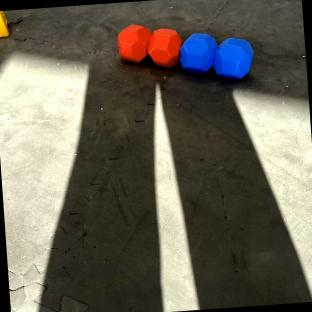V5_BLUE: (180, 33, 252, 78)
V5_RED: (118, 23, 180, 66)
